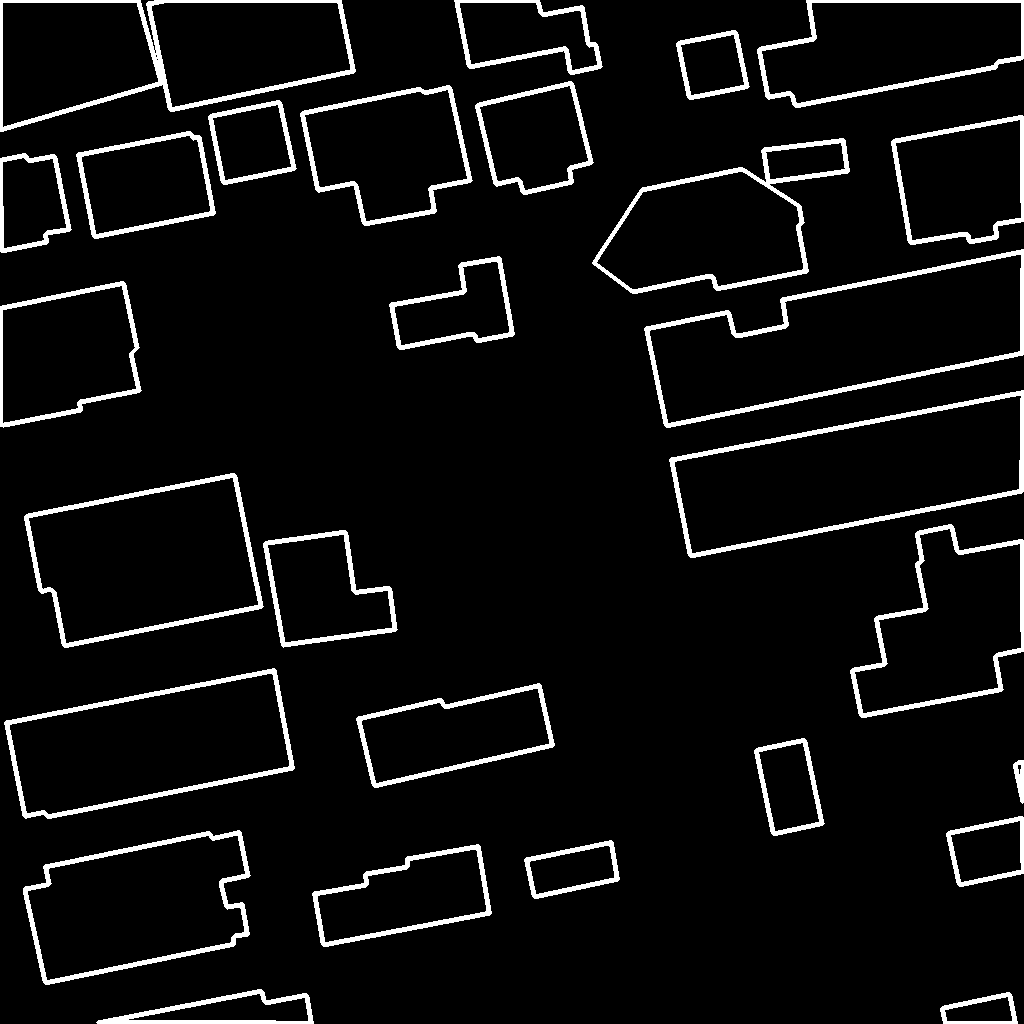building: (646, 251, 1024, 427), (671, 392, 1024, 557), (6, 670, 294, 818), (26, 475, 262, 647), (25, 832, 249, 984), (852, 526, 1024, 717), (759, 0, 1024, 107), (594, 169, 808, 293), (302, 87, 471, 225), (148, 0, 355, 111), (0, 0, 163, 131), (0, 283, 140, 426), (358, 685, 554, 787), (314, 846, 491, 946), (893, 117, 1024, 244), (265, 532, 396, 646), (78, 133, 215, 238), (477, 83, 592, 194), (391, 258, 514, 349), (948, 762, 1024, 886), (456, 0, 590, 68), (96, 991, 313, 1024), (210, 102, 295, 184), (0, 155, 70, 252), (756, 740, 823, 835), (526, 842, 619, 898), (678, 32, 748, 99), (763, 140, 849, 183), (942, 994, 1017, 1024), (566, 44, 601, 74)
